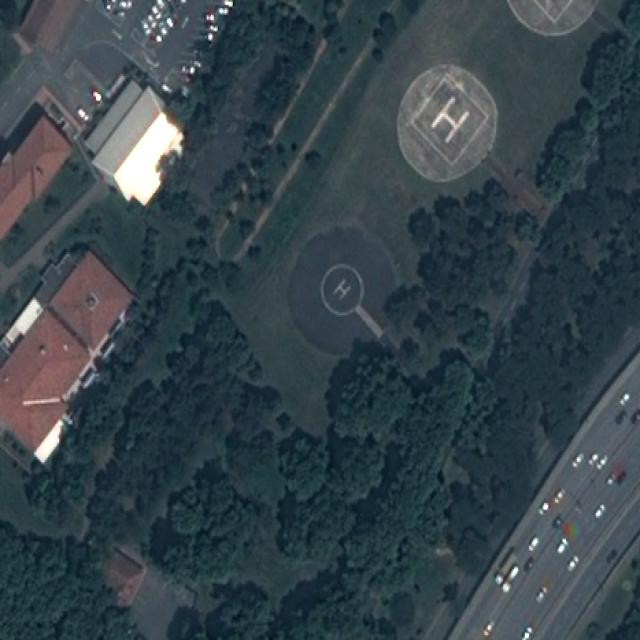Batiment: (0, 311, 89, 452), (85, 80, 182, 204), (0, 116, 71, 240), (49, 251, 132, 348), (16, 0, 80, 53)
